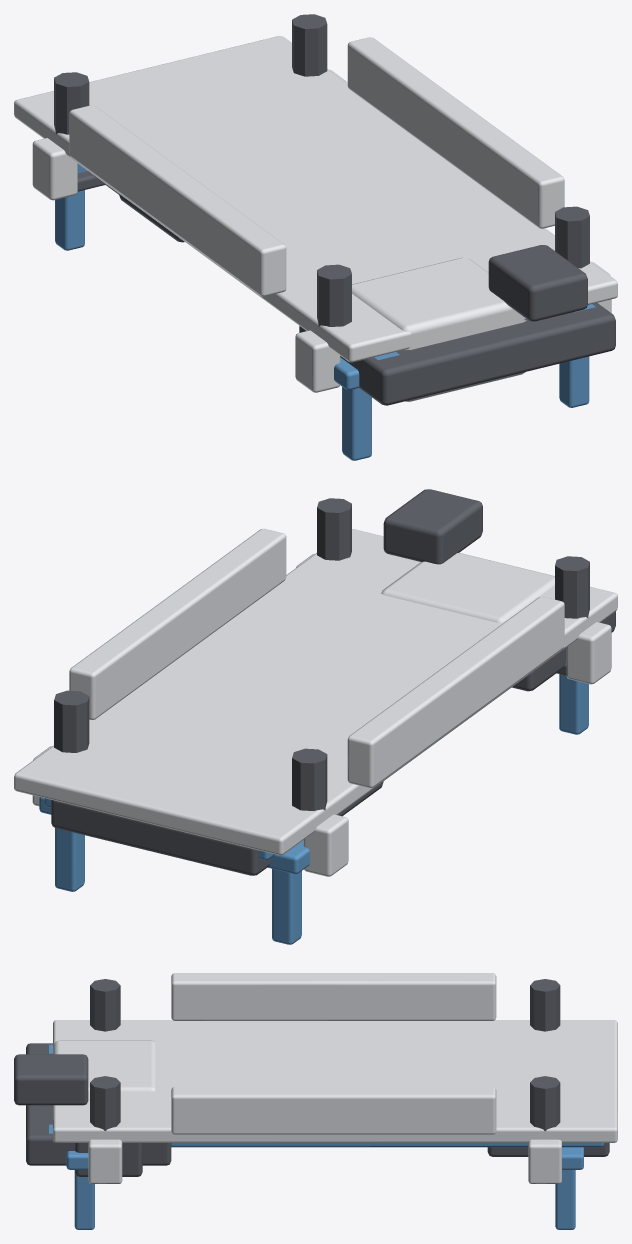
The model's file is bare-rolling-chassis.glb.
3 renders of one model, top to bottom at view 1: azimuth 30°, elevation 25°; view 2: azimuth 150°, elevation 25°; view 3: azimuth 270°, elevation 25°, orthographic. The views are drawn at different scales.
Visible parts, largest first — view 1: bare-rolling-chassis; view 2: bare-rolling-chassis; view 3: bare-rolling-chassis.
Part boxes in pixels (left/top/right/bottom): bare-rolling-chassis: left=14, top=14, right=617, bottom=460; bare-rolling-chassis: left=14, top=489, right=617, bottom=944; bare-rolling-chassis: left=14, top=973, right=617, bottom=1229.
Bounding box in the file's own units: 1.74 × 0.97 × 3.57.
